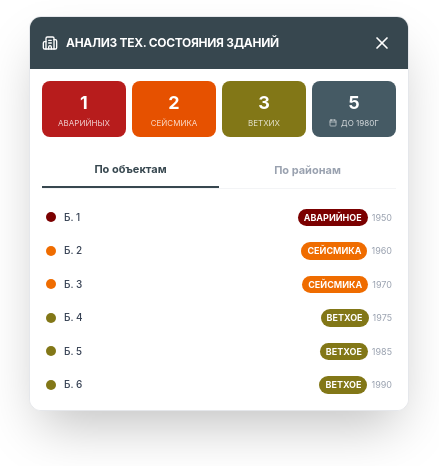
it: BuildingAnalysisModalHospitals Component › должен переключаться на вкладку "По районам" и корректно считать пропорции риска
The width and height of the screenshot is (439, 466).
Click the button "По районам". click: x=308, y=170
box: x1=219 y1=153 x2=396 y2=188
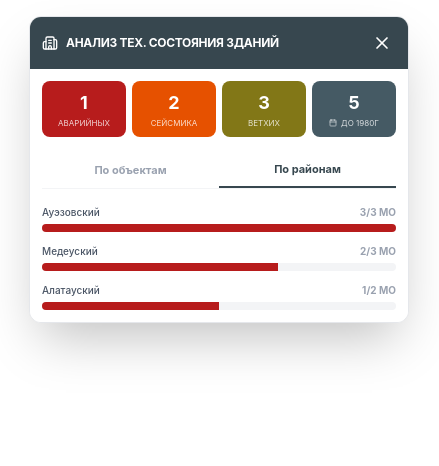
Expected: the text "Алатауский" is shown, x1=42 y1=282 x2=100 y2=298
Expected: the text "1/2 МО" is shown, x1=362 y1=282 x2=396 y2=298
Expected: the text "Медеуский" is shown, x1=42 y1=244 x2=98 y2=258
